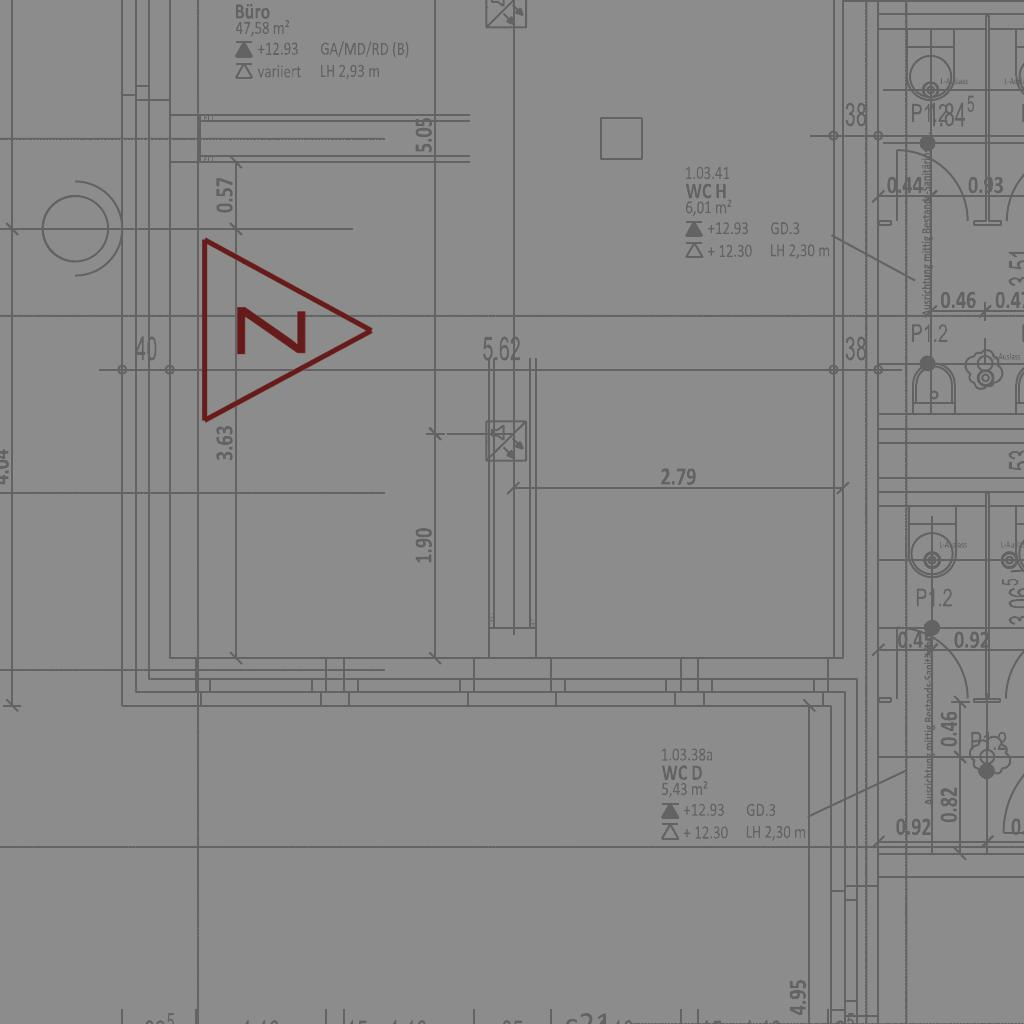Zimmersignalleuchte: (187, 230, 387, 426)
